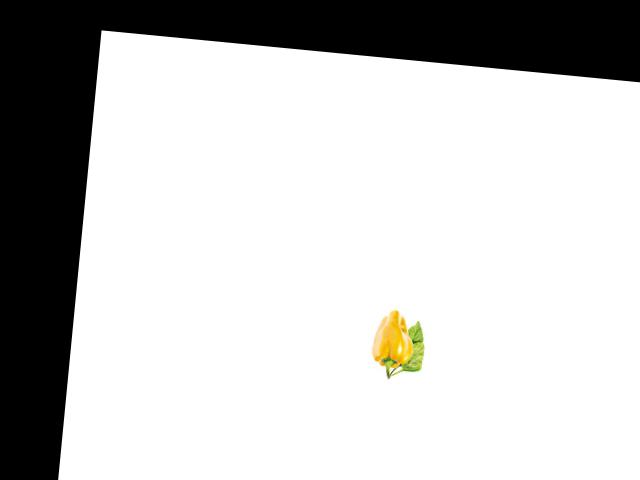bell_pepper: (366, 306, 417, 382)
